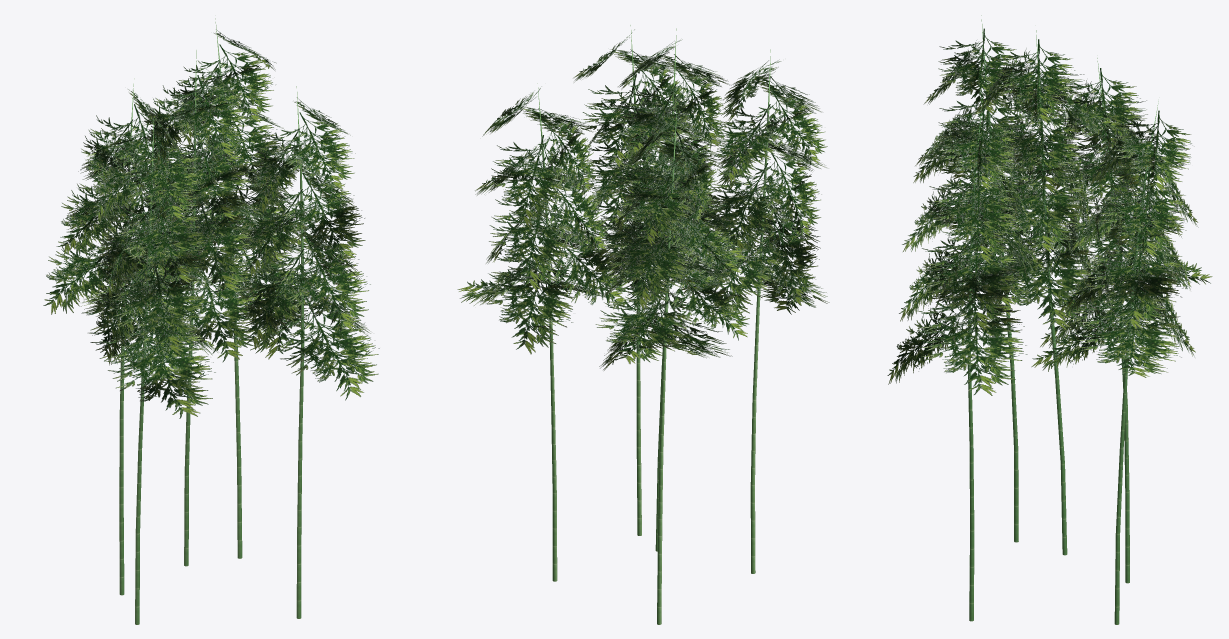
Rendered from bamboo.fbx.
3 renders of one model, left to right at view 1: azimuth 30°, elevation 25°; view 2: azimuth 150°, elevation 25°; view 3: azimuth 270°, elevation 25°, orthographic. The views are drawn at different scales.
Visible parts, largest first — view 1: 竹4, 竹5, 竹1, 竹3, 竹2; view 2: 竹3, 竹2, 竹5, 竹1, 竹4; view 3: 竹4, 竹2, 竹1, 竹3, 竹5.
Boxes of the visible parts, left/top/right/bottom form: 竹4: left=236, top=86, right=379, bottom=618; 竹5: left=80, top=110, right=217, bottom=624; 竹1: left=106, top=50, right=267, bottom=566; 竹3: left=43, top=78, right=189, bottom=595; 竹2: left=161, top=18, right=311, bottom=558; 竹3: left=595, top=102, right=749, bottom=624; 竹2: left=457, top=83, right=628, bottom=581; 竹5: left=687, top=49, right=829, bottom=573; 竹1: left=599, top=28, right=747, bottom=551; 竹4: left=566, top=25, right=701, bottom=535; 竹4: left=887, top=98, right=1045, bottom=621; 竹2: left=1031, top=101, right=1198, bottom=624; 竹1: left=966, top=30, right=1120, bottom=555; 竹3: left=1040, top=58, right=1212, bottom=583; 竹5: left=915, top=15, right=1076, bottom=542.
Bounding box in the file's own units: 7.32 × 13.39 × 7.11.
